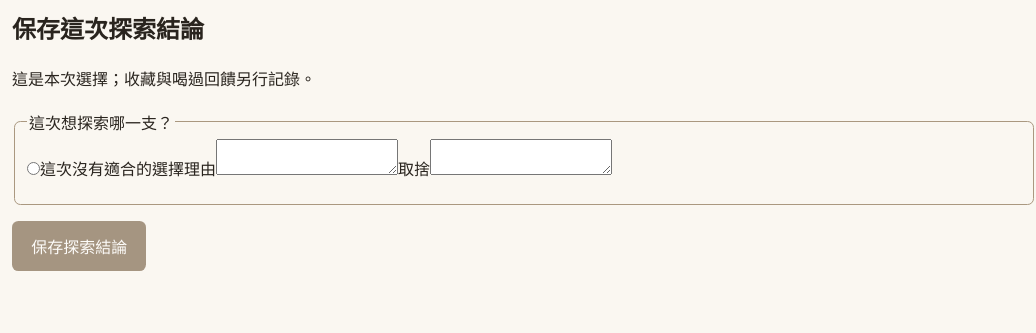
saving no suitable choice is explicit and retry keeps the original command
Click the radio button labelled "這次沒有適合的" at point(34, 169), box [27,162,40,175]
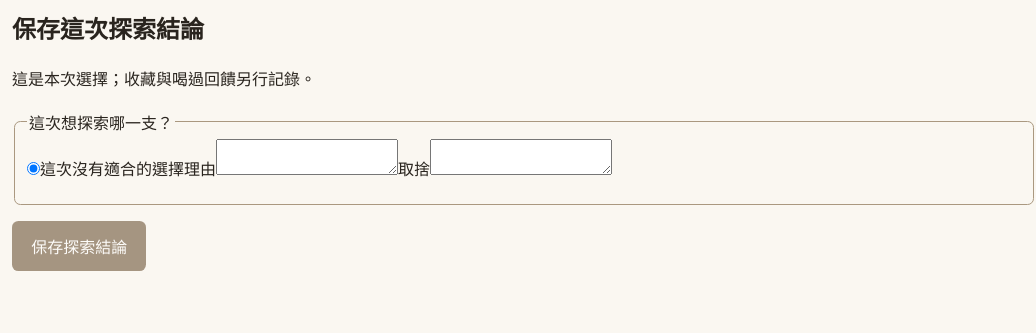
Type "目前資料不足" into the text box labelled "選擇理由" at point(307, 157), box [216,139,398,175]
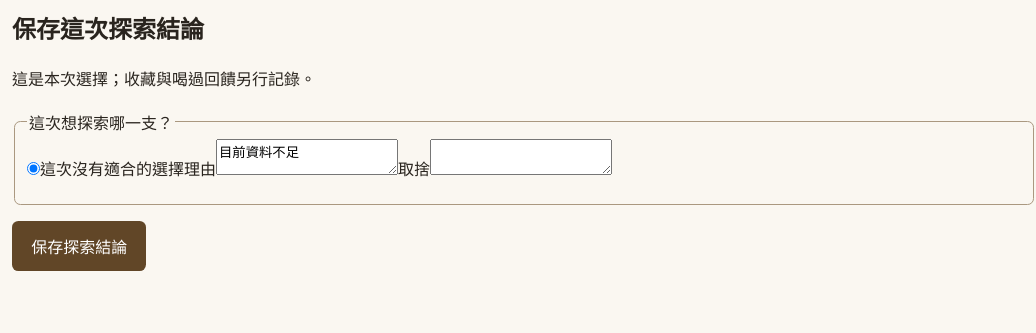
Click the button "保存探索結論" at point(79, 246), box [12,221,146,271]
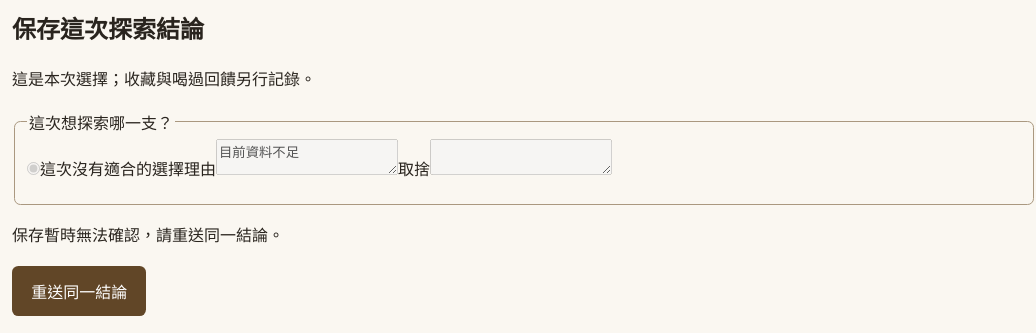
Expected: the button "重送同一結論" is shown
Expected: the element labelled "選擇理由" is disabled, [14,110,1034,205]
Click the button "重送同一結論" at point(79, 291), box [12,266,146,316]
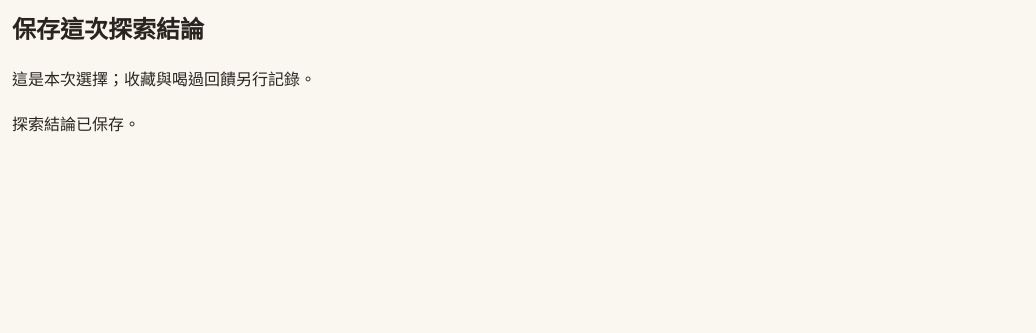
Expected: the text "探索結論已保存。" is shown, [12,113,140,135]
